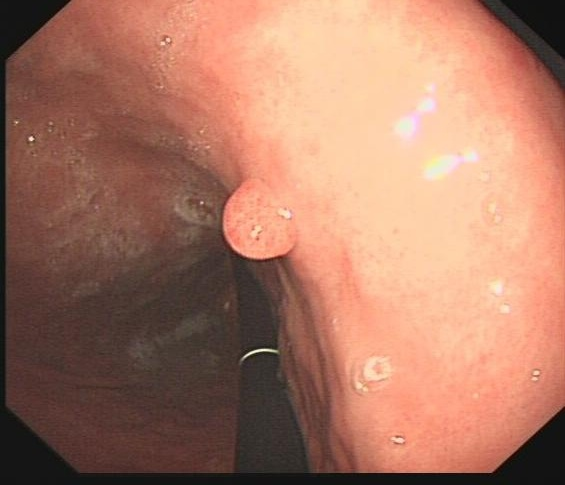Polyp: (212, 166, 304, 260)
